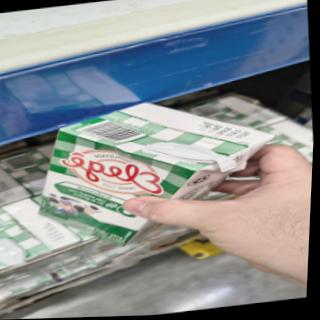Milk: (26, 89, 237, 236)
